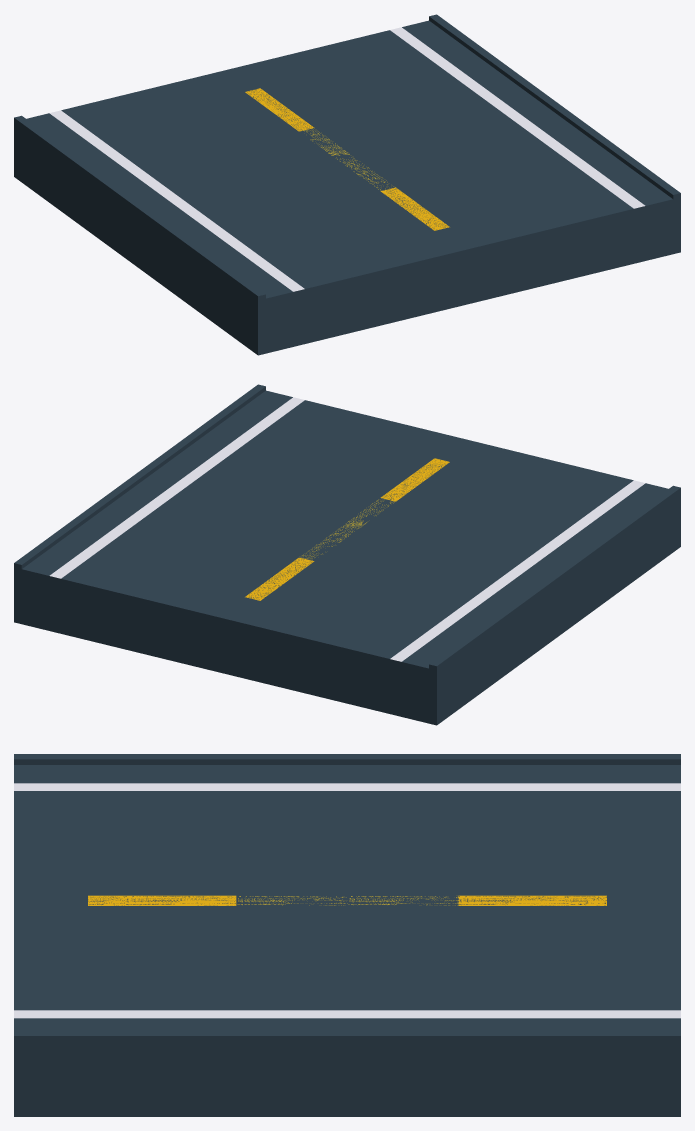
The model's file is Road2.fbx.
3 renders of one model, top to bottom at view 1: azimuth 30°, elevation 25°; view 2: azimuth 150°, elevation 25°; view 3: azimuth 270°, elevation 25°, orthographic. The views are drawn at different scales.
Visible parts, largest first — view 1: Cube; view 2: Cube; view 3: Cube.
Part boxes in pixels (x1=…): Cube: x1=14, y1=14, x2=680, y2=355; Cube: x1=14, y1=384, x2=680, y2=725; Cube: x1=14, y1=754, x2=680, y2=1116.
Size of the model in its own units: 200 by 26.78 by 200.
1 material, 1 textured.
